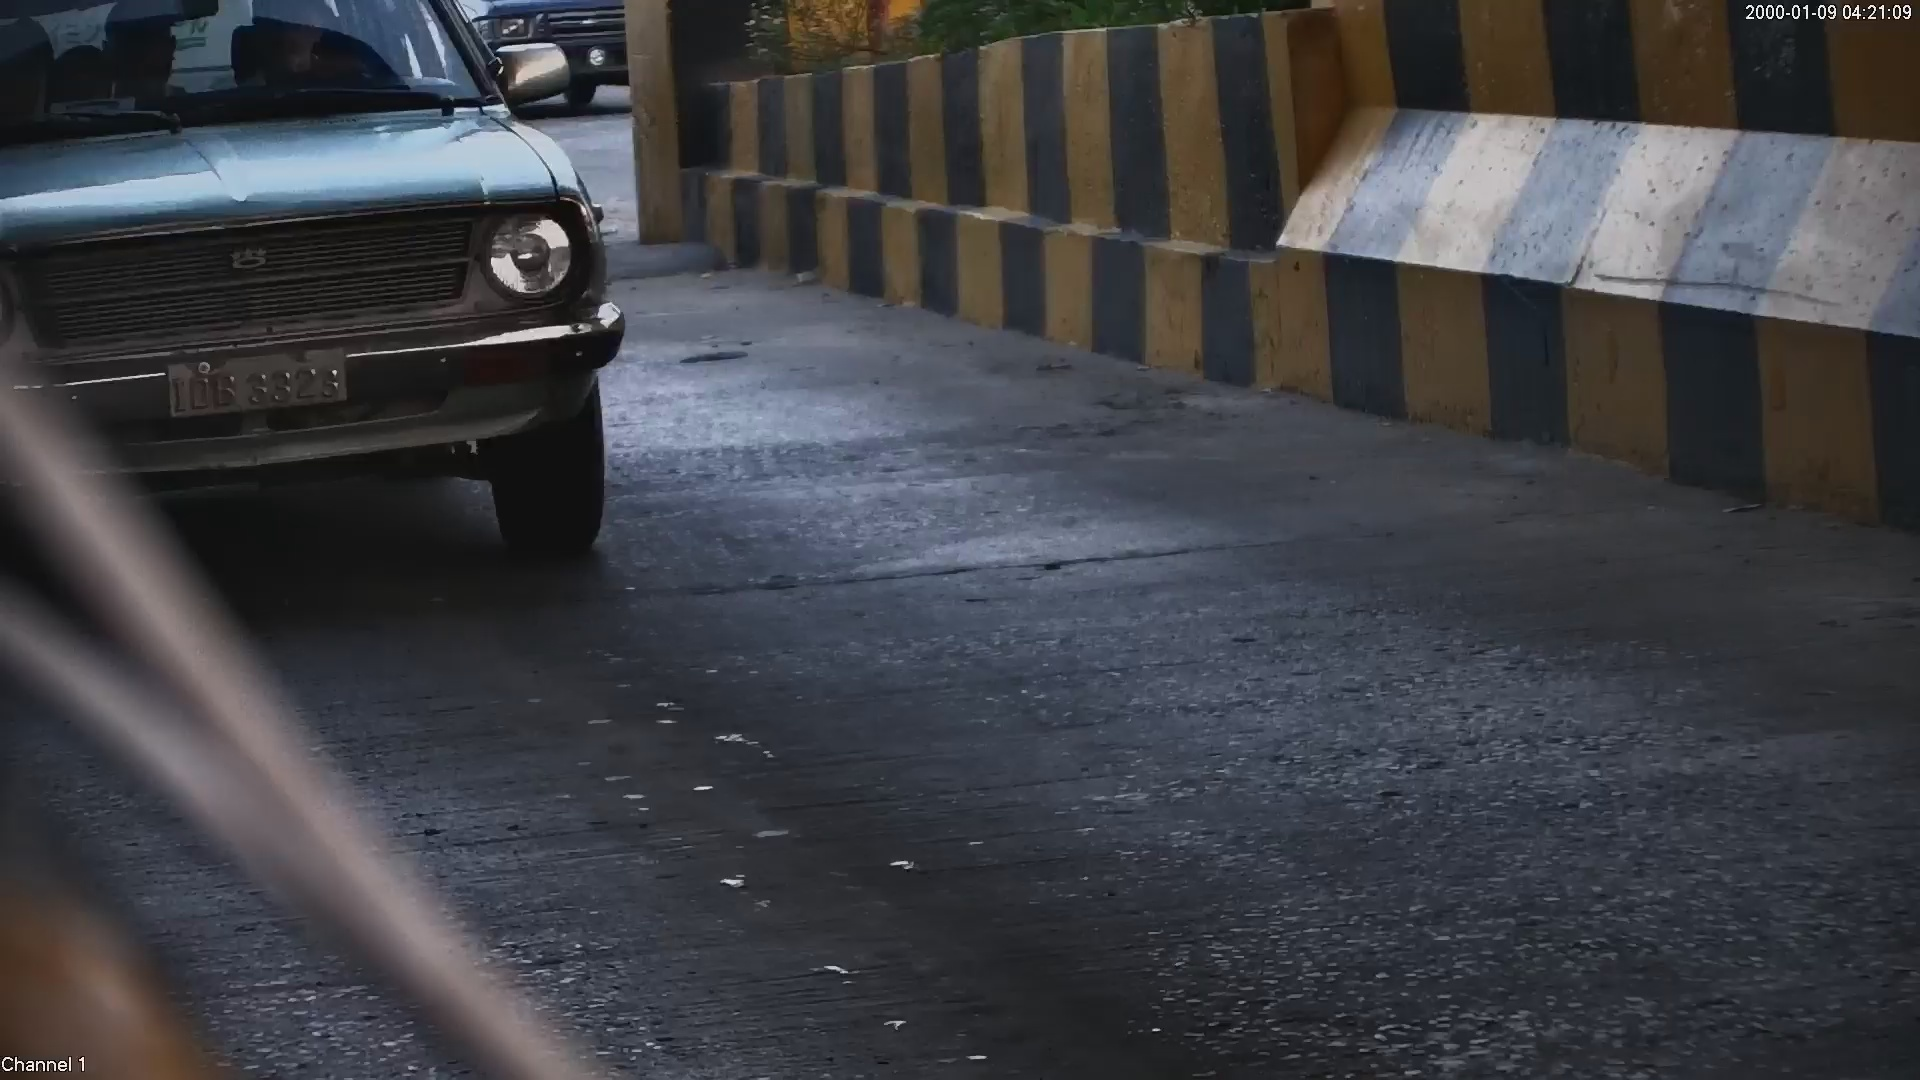Number_Plate: (154, 351, 367, 420)
Undefined: (200, 225, 289, 279)
